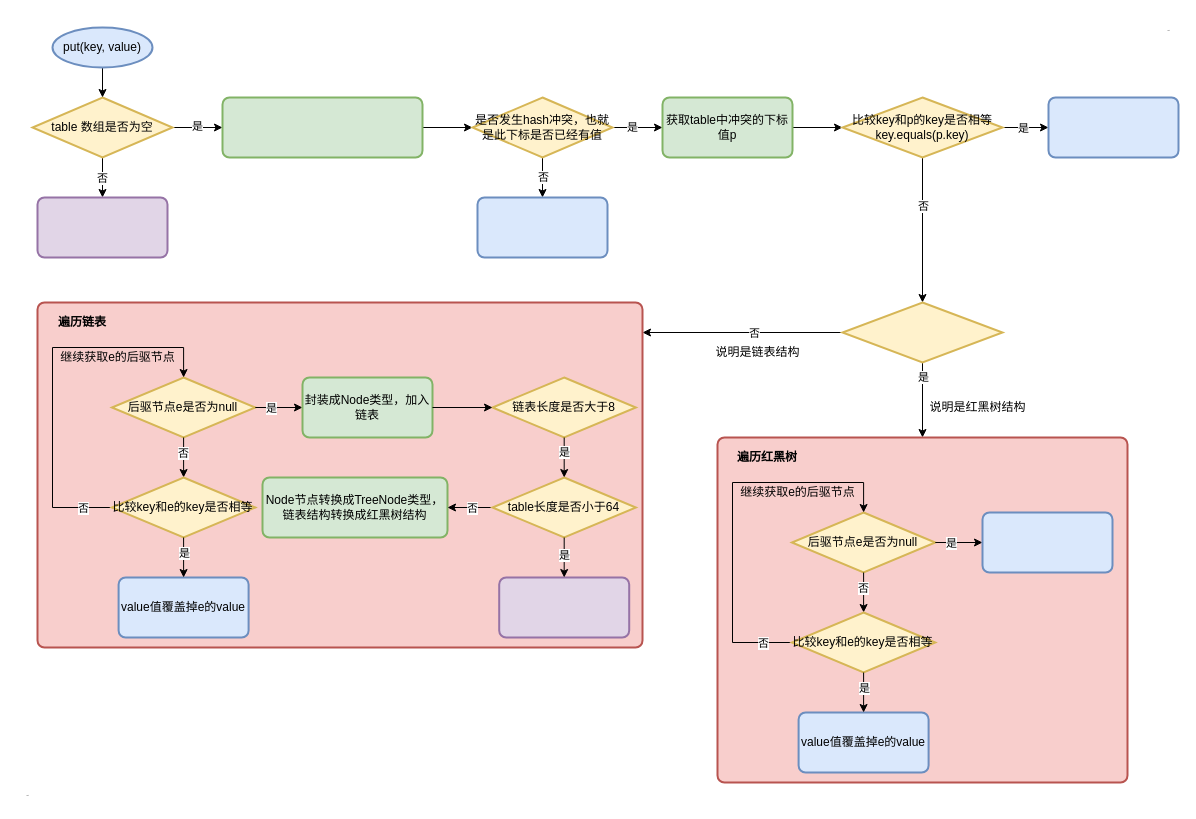
Image size: 1196x819. Some labels were removed from this diagram. Each missing label, with the centre of its shape:
"p是否为TreeNode类型" goes at point 922,332.
"resize初始化table" goes at point 102,227.
"resize扩容table" goes at point 564,607.
"value值覆盖掉p的value" goes at point 1113,127.
"封装成Node类型，直接存入到table对应下标" goes at point 542,227.
"封装成TreeNode类型，直接存入红黑树" goes at point 1047,542.
"获取key即将存储的table位置下标， hash(key) & table.lenth - 1" goes at point 322,127.
